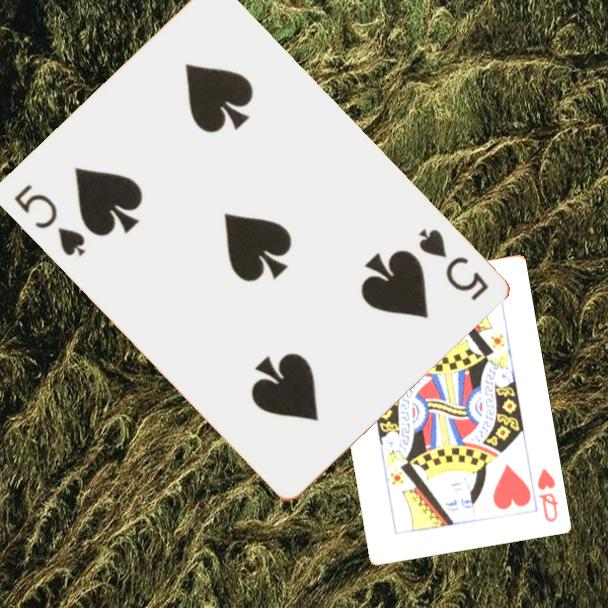h12: (533, 464, 561, 525)
s05: (10, 181, 88, 259), (414, 225, 491, 304)
